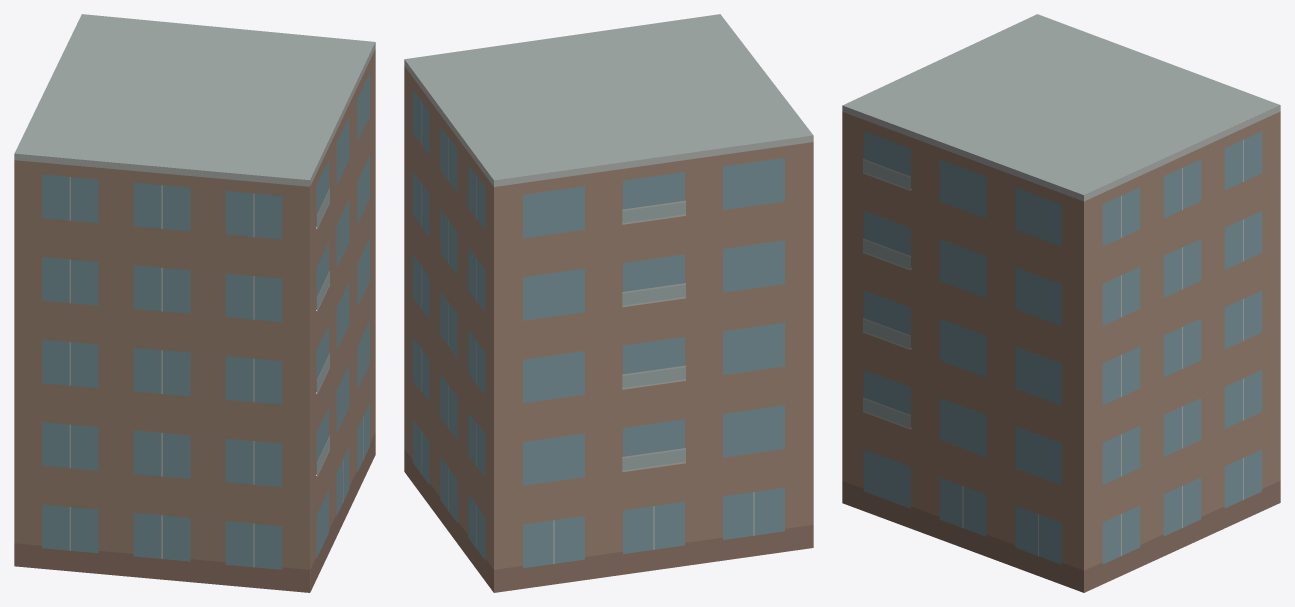
Rendered from survey-upis-32854425.glb.
The picture shows the model from 3 angles, left to right: view 1: azimuth 30°, elevation 25°; view 2: azimuth 150°, elevation 25°; view 3: azimuth 270°, elevation 25°; orthographic projection. The views are drawn at different scales.
Visible parts, largest first — view 1: survey-upis-32854425.tmp; view 2: survey-upis-32854425.tmp; view 3: survey-upis-32854425.tmp.
Part boxes in pixels (x1,y1,x2,y2): survey-upis-32854425.tmp: (14,14,375,592); survey-upis-32854425.tmp: (404,14,813,592); survey-upis-32854425.tmp: (842,14,1280,592).
Bounding box in the file's own units: 15.06 × 15.4 × 15.39.
